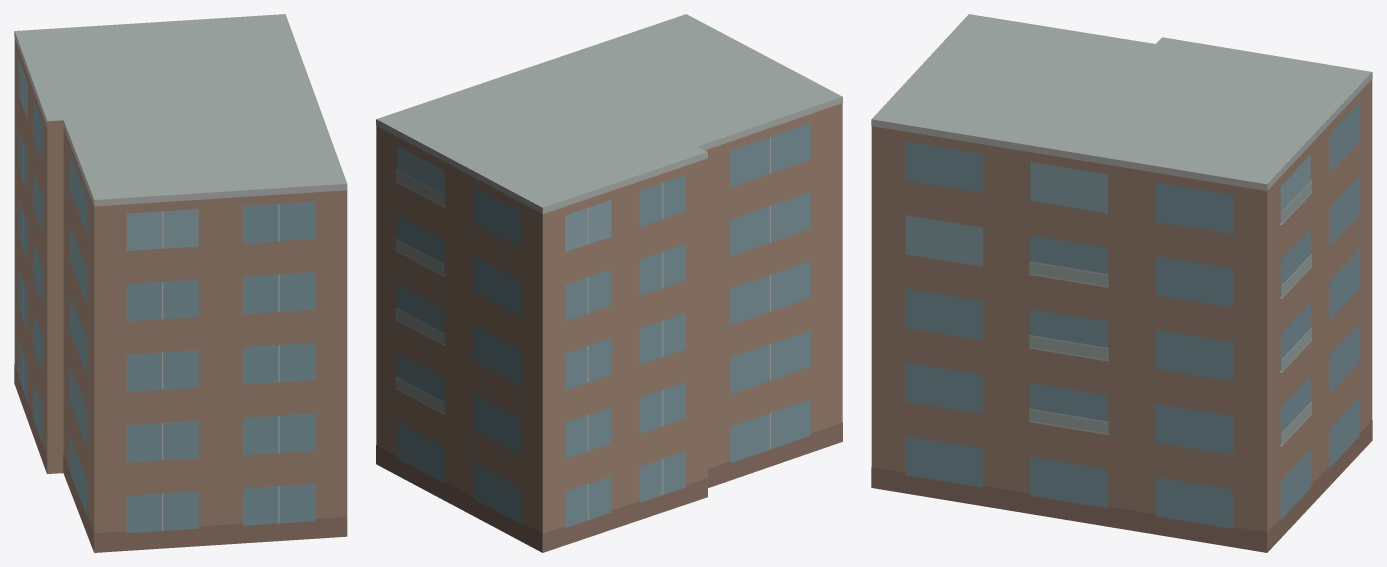
File: survey-upis-32880542.glb
3 renders of one model, left to right at view 1: azimuth 30°, elevation 25°; view 2: azimuth 150°, elevation 25°; view 3: azimuth 270°, elevation 25°, orthographic. The views are drawn at different scales.
Parts seen in each view (by area): view 1: survey-upis-32880542.tmp; view 2: survey-upis-32880542.tmp; view 3: survey-upis-32880542.tmp.
Boxes of the visible parts, <box> form: survey-upis-32880542.tmp: <box>14,14,347,552</box>; survey-upis-32880542.tmp: <box>376,14,842,552</box>; survey-upis-32880542.tmp: <box>871,14,1372,552</box>.
Bounding box in the file's own units: 13.24 × 13.35 × 16.46.
